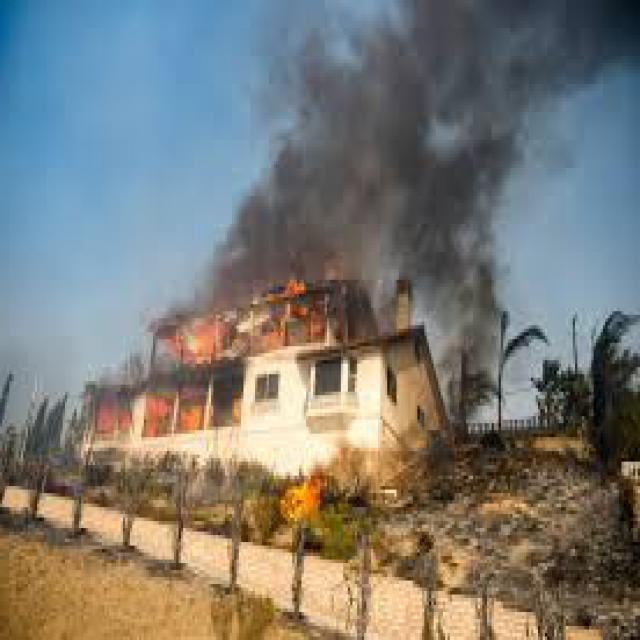Fire: (66, 274, 332, 447), (230, 474, 353, 540)
Smoke: (229, 0, 640, 285)
